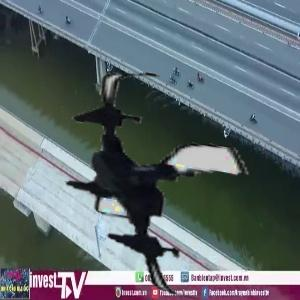drone: (39, 73, 257, 291)
